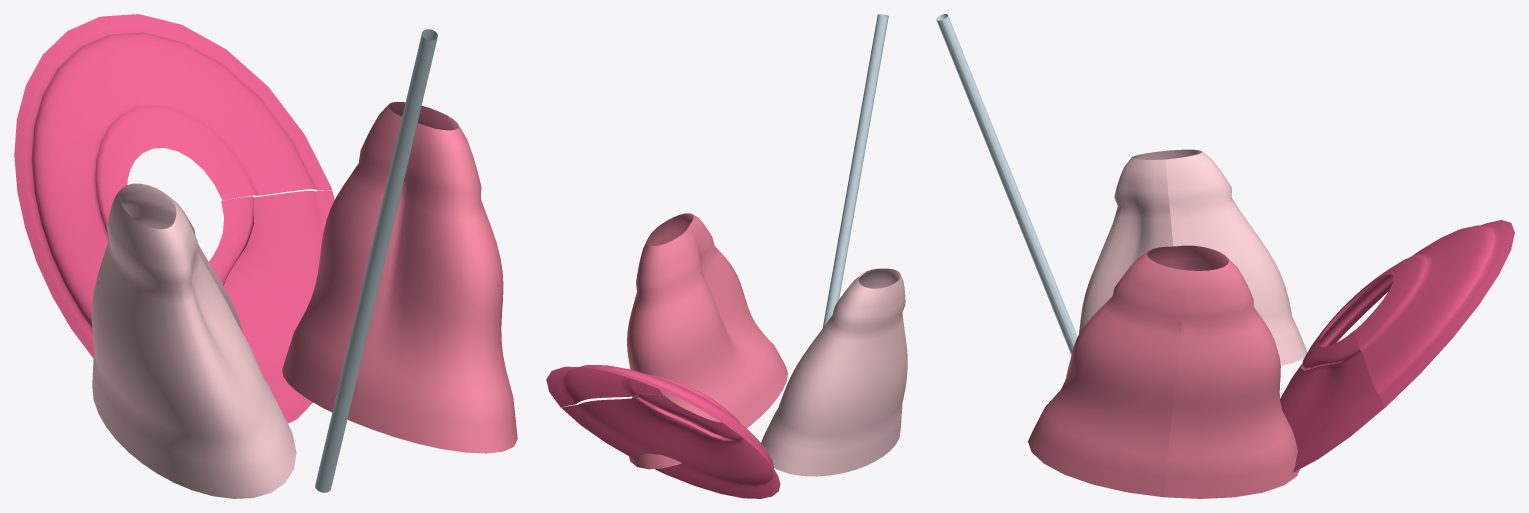
The model's file is respiratory.glb.
The picture shows the model from 3 angles, left to right: view 1: azimuth 30°, elevation 25°; view 2: azimuth 150°, elevation 25°; view 3: azimuth 270°, elevation 25°; orthographic projection. The views are drawn at different scales.
Parts seen in each view (by area): view 1: Mesh_Feline_Diaphragma, Mesh_Feline_Pulmo_Dexter, Mesh_Feline_Pulmo_Sinister, Mesh_Feline_Trachea; view 2: Mesh_Feline_Pulmo_Dexter, Mesh_Feline_Pulmo_Sinister, Mesh_Feline_Diaphragma, Mesh_Feline_Trachea; view 3: Mesh_Feline_Pulmo_Dexter, Mesh_Feline_Diaphragma, Mesh_Feline_Pulmo_Sinister, Mesh_Feline_Trachea.
Part boxes in pixels (<box>): Mesh_Feline_Diaphragma: <box>14,14,334,423</box>; Mesh_Feline_Pulmo_Dexter: <box>282,101,517,453</box>; Mesh_Feline_Pulmo_Sinister: <box>91,183,296,498</box>; Mesh_Feline_Trachea: <box>315,29,437,492</box>; Mesh_Feline_Pulmo_Dexter: <box>627,213,787,469</box>; Mesh_Feline_Pulmo_Sinister: <box>761,268,907,476</box>; Mesh_Feline_Diaphragma: <box>546,365,780,498</box>; Mesh_Feline_Trachea: <box>822,14,888,327</box>; Mesh_Feline_Pulmo_Dexter: <box>1028,245,1299,498</box>; Mesh_Feline_Diaphragma: <box>1280,220,1514,472</box>; Mesh_Feline_Pulmo_Sinister: <box>1066,149,1307,376</box>; Mesh_Feline_Trachea: <box>936,14,1077,354</box>.
Size of the model in its own units: 0.2975 by 0.4495 by 0.5383.
